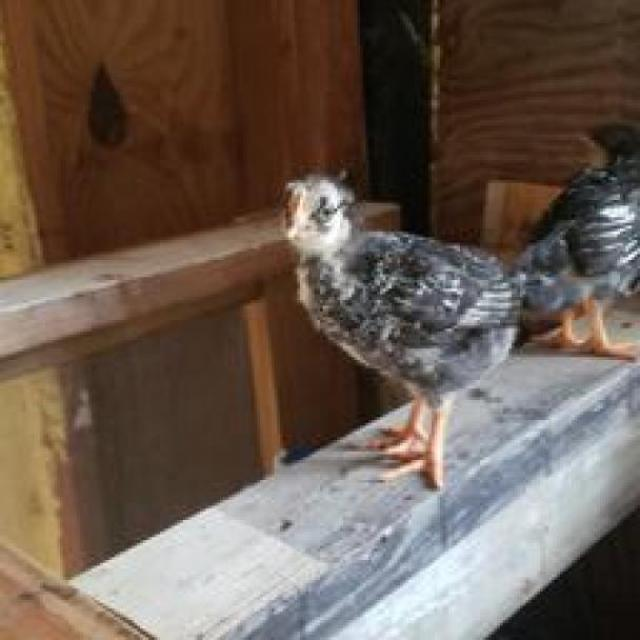Chicken: (276, 157, 540, 492)
